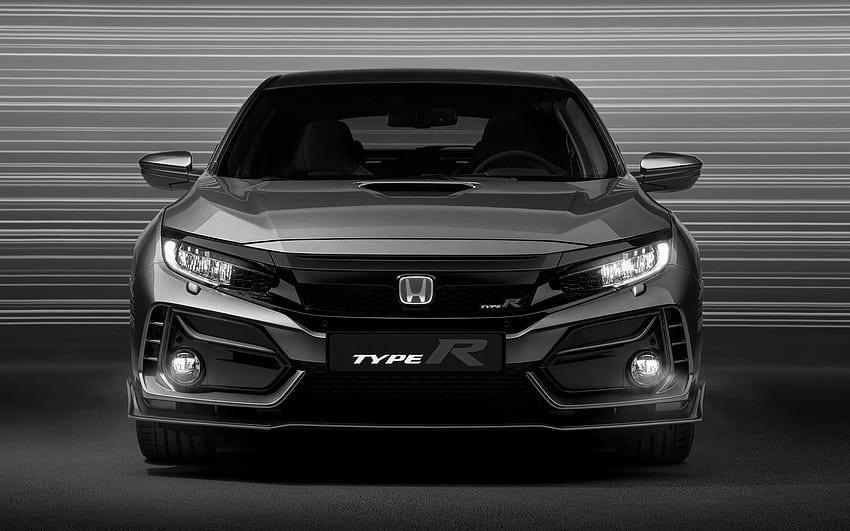Car hood: (159, 170, 670, 263)
Front bumper: (123, 270, 707, 451)
Headlight - -L-: (559, 237, 675, 297)
Headlight - -R-: (151, 222, 269, 301)
Side mirror - -L-: (628, 150, 703, 198)
Side mirror - -R-: (138, 149, 209, 195)
